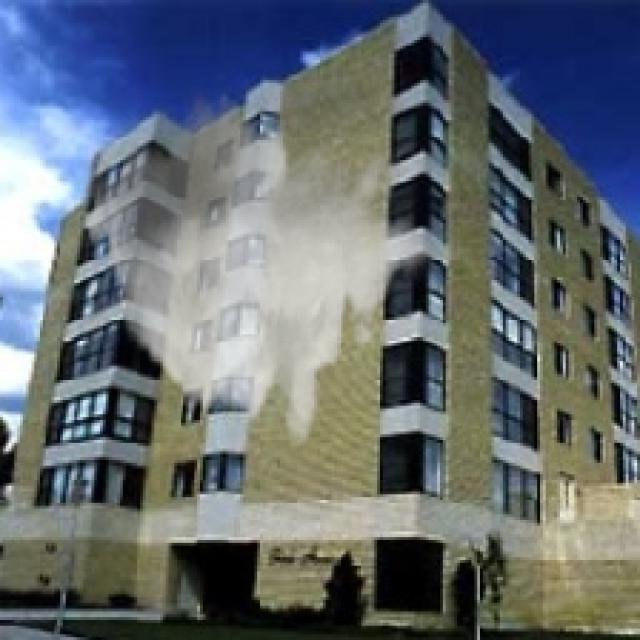smoke: (80, 86, 431, 451)
